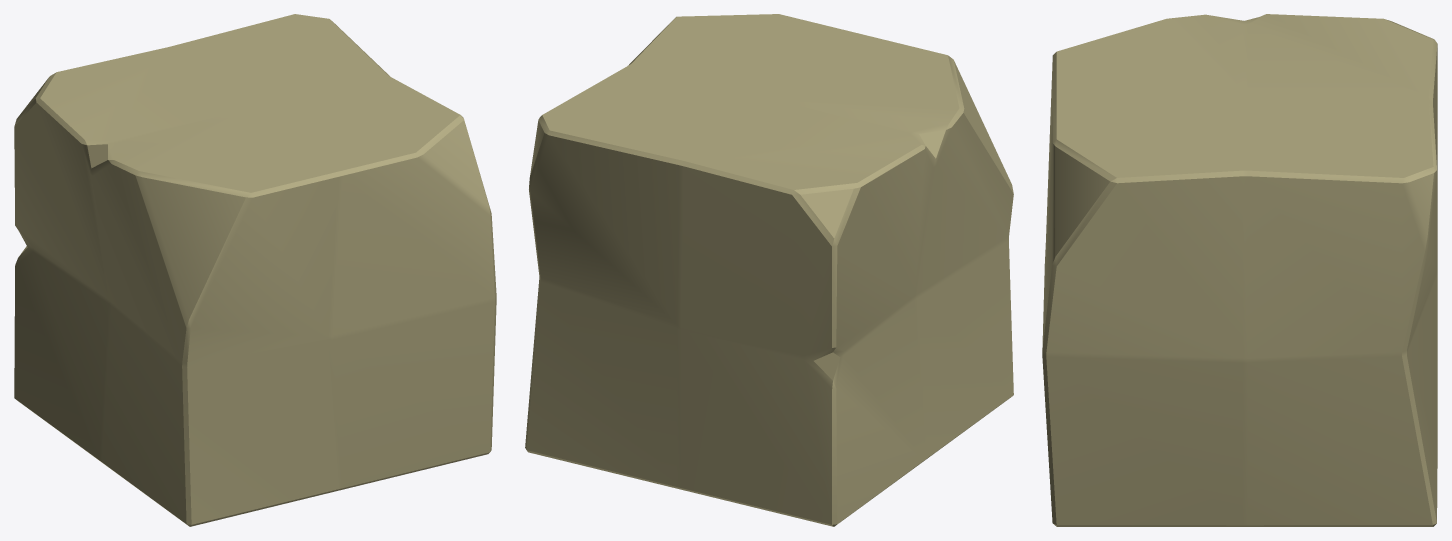
The model's file is cube_bigger.fbx.
The picture shows the model from 3 angles, left to right: view 1: azimuth 30°, elevation 25°; view 2: azimuth 150°, elevation 25°; view 3: azimuth 270°, elevation 25°; orthographic projection. The views are drawn at different scales.
Parts seen in each view (by area): view 1: Block_1; view 2: Block_1; view 3: Block_1.
Boxes of the visible parts, x1,y1,x2,y2 form: Block_1: (14, 14, 496, 526); Block_1: (525, 14, 1013, 526); Block_1: (1042, 14, 1437, 526).
Bounding box in the file's own units: 115 × 107 × 110.
